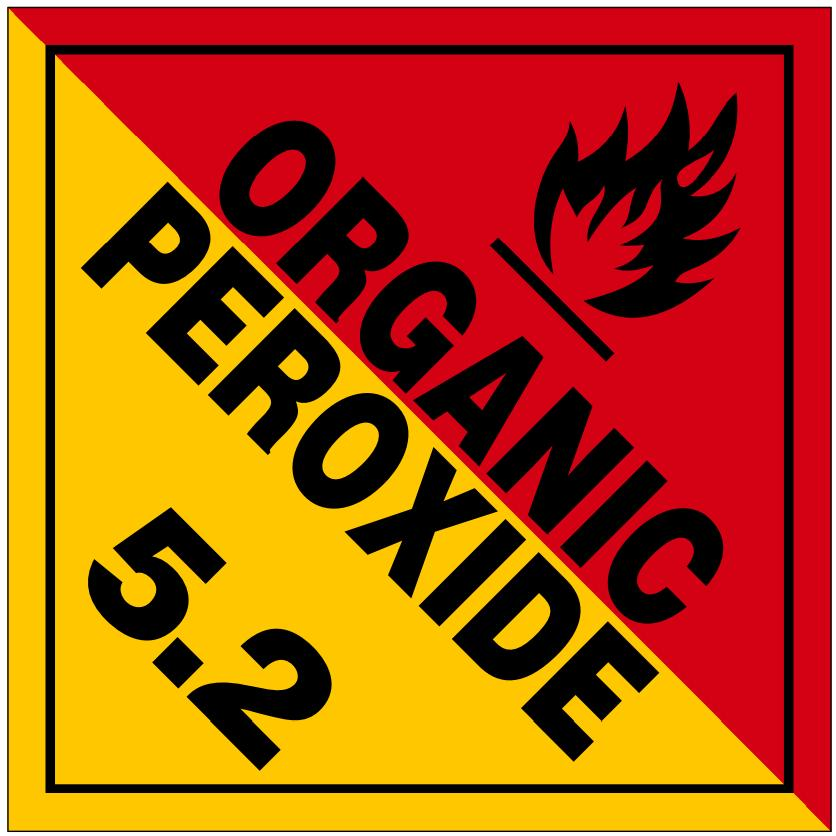organic-peroxide: (1, 1, 836, 836)
